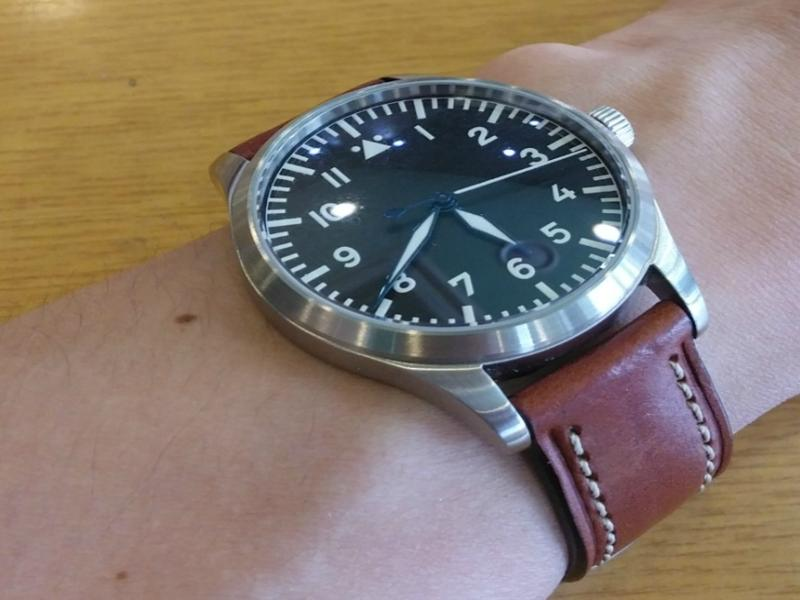watch: (209, 71, 737, 583)
